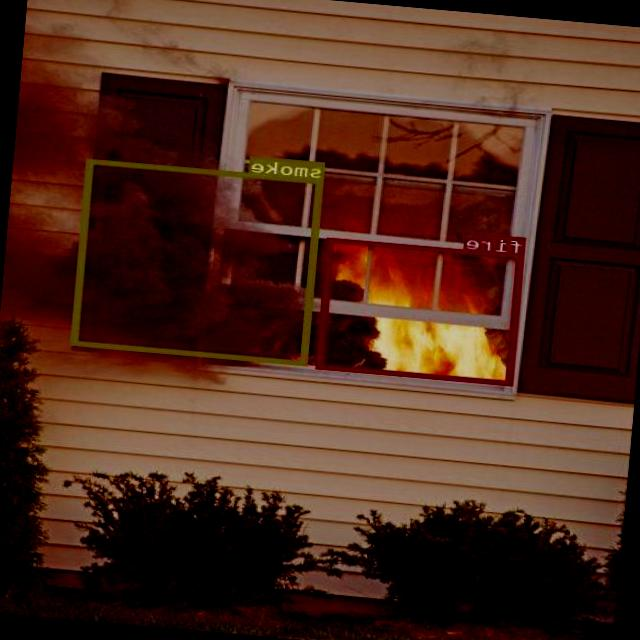fire: (317, 236, 524, 384)
smoke: (72, 158, 324, 364)
